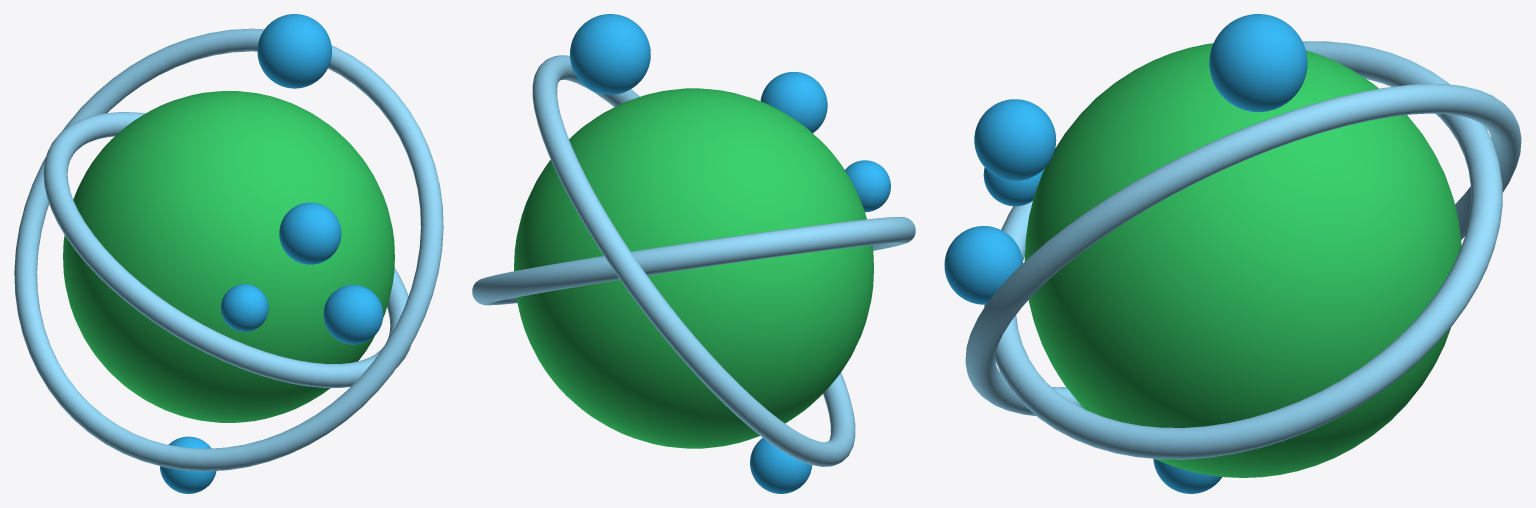
The model's file is planet-3.glb.
3 views of the same model, side by side, from view 1: azimuth 30°, elevation 25°; view 2: azimuth 150°, elevation 25°; view 3: azimuth 270°, elevation 25° (orthographic). The views are drawn at different scales.
Parts seen in each view (by area): view 1: Roundcube, BezierCircle.001, BezierCircle, Roundcube.004, Roundcube.003, Roundcube.001, Roundcube.002, Roundcube.005; view 2: Roundcube, BezierCircle.001, BezierCircle, Roundcube.004, Roundcube.003, Roundcube.005, Roundcube.002; view 3: Roundcube, BezierCircle, BezierCircle.001, Roundcube.004, Roundcube.003, Roundcube.001, Roundcube.002, Roundcube.005.
Part boxes in pixels (<box>): Roundcube: <box>63,91,394,422</box>; BezierCircle.001: <box>14,28,443,471</box>; BezierCircle: <box>43,112,410,387</box>; Roundcube.004: <box>257,14,331,88</box>; Roundcube.003: <box>279,202,341,264</box>; Roundcube.001: <box>323,285,383,344</box>; Roundcube.002: <box>221,284,268,331</box>; Roundcube.005: <box>160,436,216,493</box>; Roundcube: <box>514,88,873,448</box>; BezierCircle.001: <box>532,55,855,466</box>; BezierCircle: <box>472,217,915,305</box>; Roundcube.004: <box>570,14,650,94</box>; Roundcube.003: <box>760,72,827,133</box>; Roundcube.005: <box>750,438,812,493</box>; Roundcube.002: <box>845,160,890,212</box>; Roundcube: <box>1024,43,1461,477</box>; BezierCircle: <box>984,41,1502,459</box>; BezierCircle.001: <box>965,83,1521,416</box>; Roundcube.004: <box>1209,14,1307,112</box>; Roundcube.003: <box>974,99,1056,180</box>; Roundcube.001: <box>944,226,1022,304</box>; Roundcube.002: <box>983,167,1044,206</box>; Roundcube.005: <box>1153,458,1222,493</box>.
Size of the model in its own units: 2.32 by 2.78 by 2.61.
